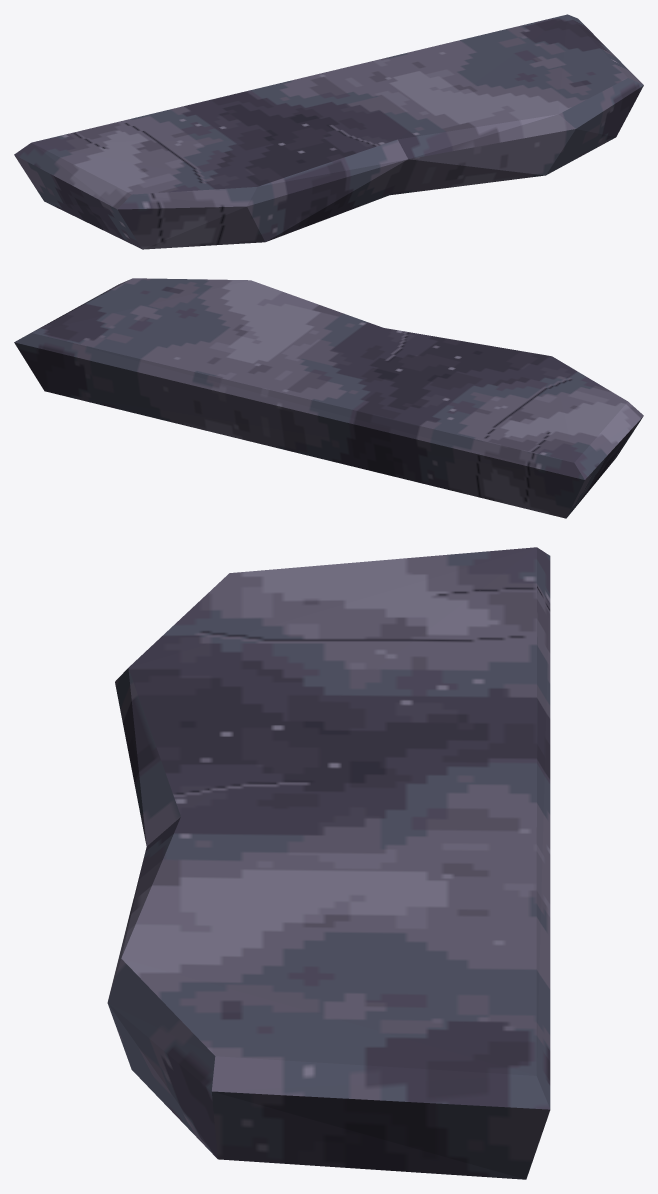
File: SM_CV_StoneLedgeA.fbx
The picture shows the model from 3 angles, top to bottom: view 1: azimuth 30°, elevation 25°; view 2: azimuth 150°, elevation 25°; view 3: azimuth 270°, elevation 25°; orthographic projection. The views are drawn at different scales.
Visible parts, largest first — view 1: CV_StoneLedgeA_Slab; view 2: CV_StoneLedgeA_Slab; view 3: CV_StoneLedgeA_Slab.
Boxes of the visible parts, x1,y1,x2,y2 form: CV_StoneLedgeA_Slab: [14, 14, 643, 249]; CV_StoneLedgeA_Slab: [14, 278, 643, 518]; CV_StoneLedgeA_Slab: [107, 547, 550, 1179].
Bounding box in the file's own units: 1.5 × 0.154 × 0.51.
